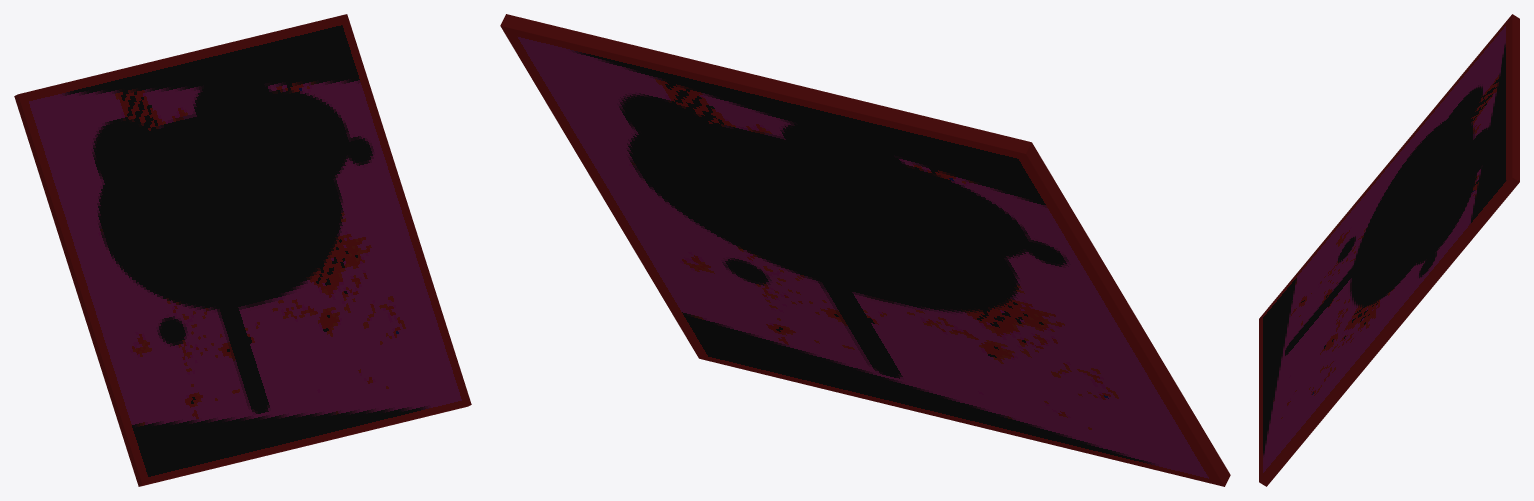
File: ps2_save-icons_thaw-graphicgrafiti.glb
3 views of the same model, side by side, from view 1: azimuth 30°, elevation 25°; view 2: azimuth 150°, elevation 25°; view 3: azimuth 270°, elevation 25° (orthographic). The views are drawn at different scales.
Visible parts, largest first — view 1: THAW Graphic:GRAFITI; view 2: THAW Graphic:GRAFITI; view 3: THAW Graphic:GRAFITI.
Part boxes in pixels (x1,y1,x2,y2): THAW Graphic:GRAFITI: [14, 14, 471, 486]; THAW Graphic:GRAFITI: [500, 14, 1230, 486]; THAW Graphic:GRAFITI: [1259, 14, 1519, 486].
Size of the model in its own units: 3.22 by 2.84 by 2.17.
1 material, 1 textured.
